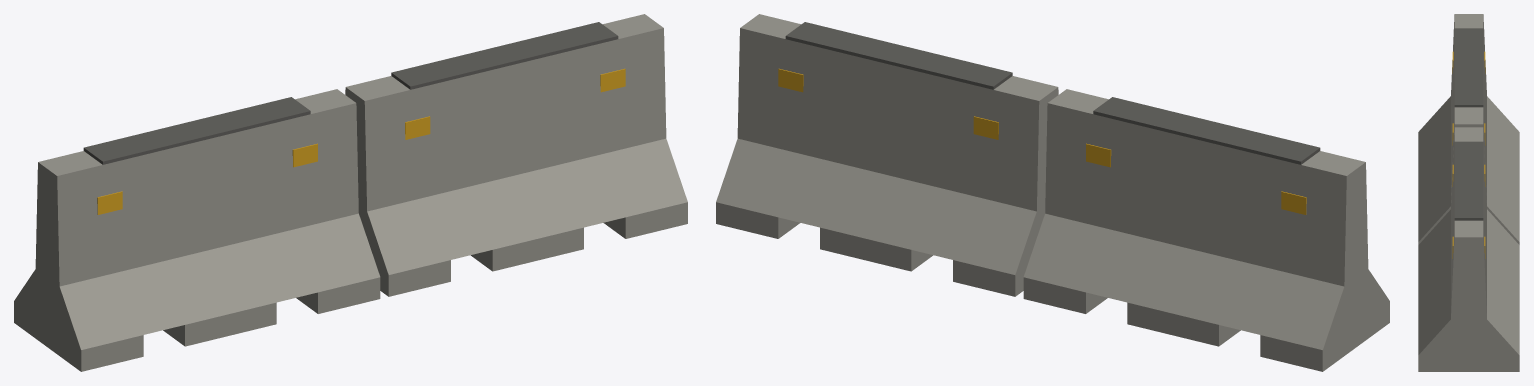
File: concrete_barrier.glb
3 renders of one model, left to right at view 1: azimuth 30°, elevation 25°; view 2: azimuth 150°, elevation 25°; view 3: azimuth 270°, elevation 25°, orthographic. The views are drawn at different scales.
Visible parts, largest first — view 1: concrete_barrier; view 2: concrete_barrier; view 3: concrete_barrier.
Part boxes in pixels (<box>): concrete_barrier: <box>14,14,687,371</box>; concrete_barrier: <box>716,14,1389,371</box>; concrete_barrier: <box>1418,14,1519,371</box>.
Size of the model in its own units: 2.92 by 0.835 by 0.56.
1 material, 1 textured.
